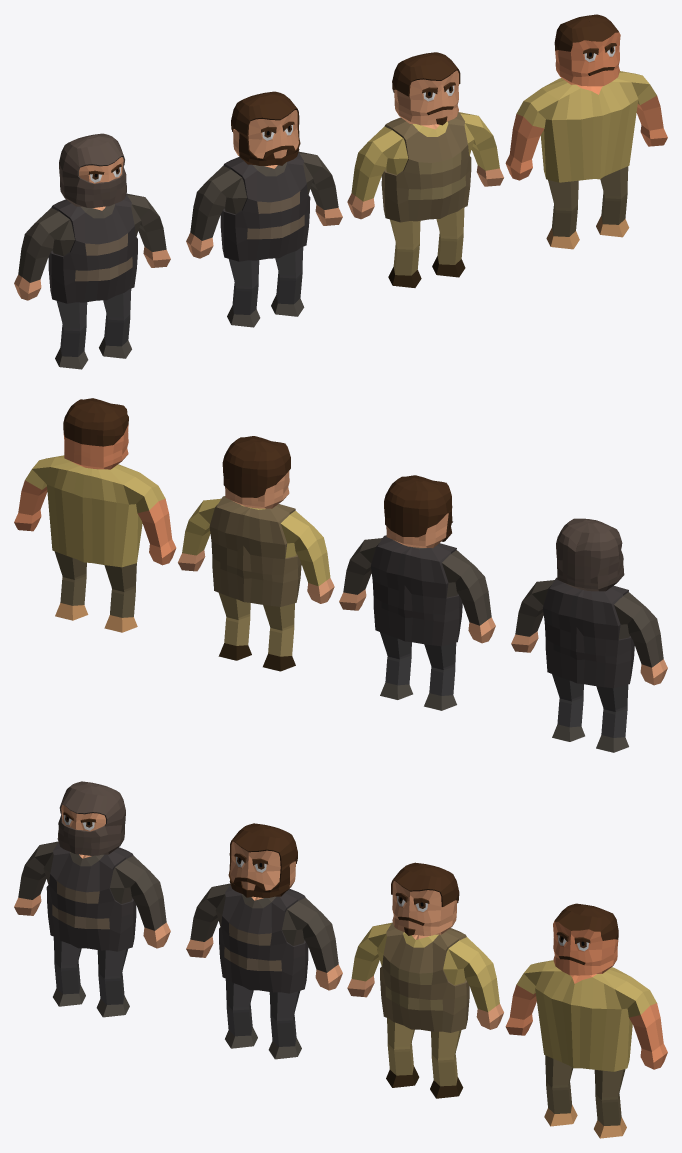
The model's file is players.fbx.
3 views of the same model, one above another, from view 1: azimuth 30°, elevation 25°; view 2: azimuth 150°, elevation 25°; view 3: azimuth 330°, elevation 25° (orthographic).
Parts seen in each view (by area): view 1: GreenSoldier1, Swat1, GreemSoldier2, Swat2; view 2: GreenSoldier1, Swat1, GreemSoldier2, Swat2; view 3: GreenSoldier1, Swat1, GreemSoldier2, Swat2.
Boxes of the visible parts, bbox=[...] form: GreenSoldier1: bbox=[505, 14, 667, 249]; Swat1: bbox=[186, 91, 342, 327]; GreemSoldier2: bbox=[347, 52, 503, 287]; Swat2: bbox=[14, 133, 170, 369]; GreenSoldier1: bbox=[14, 398, 176, 632]; Swat1: bbox=[339, 475, 495, 710]; GreemSoldier2: bbox=[178, 436, 334, 671]; Swat2: bbox=[511, 518, 667, 752]; GreenSoldier1: bbox=[505, 903, 667, 1138]; Swat1: bbox=[186, 823, 342, 1059]; GreemSoldier2: bbox=[347, 862, 503, 1098]; Swat2: bbox=[14, 781, 170, 1017].
Bounding box in the file's own units: 4816 × 1561 × 419.
